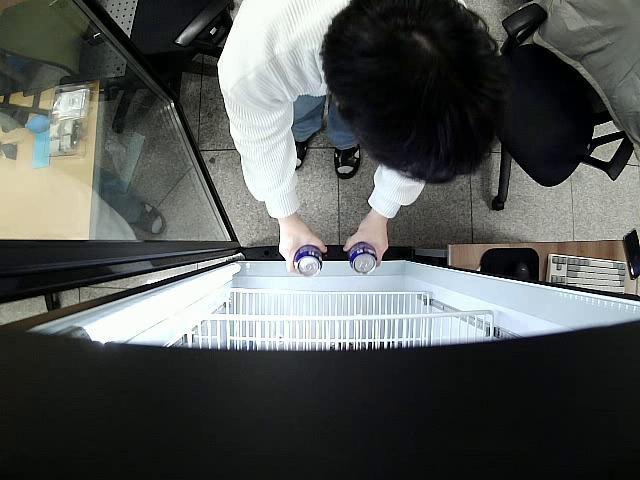14_welchsGrape: (292, 245, 324, 278), (348, 241, 378, 276)
